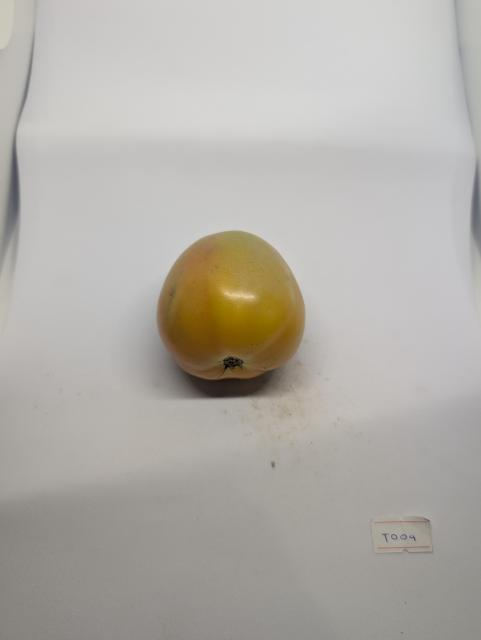turning: (154, 227, 309, 390)
